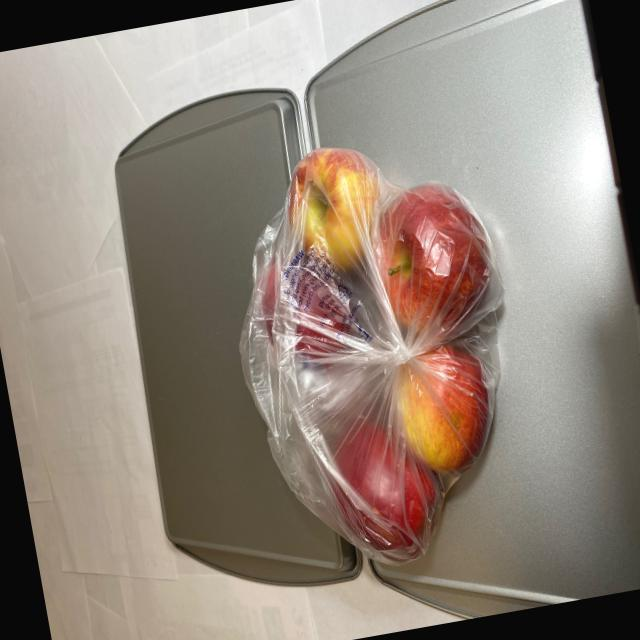apple: (228, 121, 548, 578)
